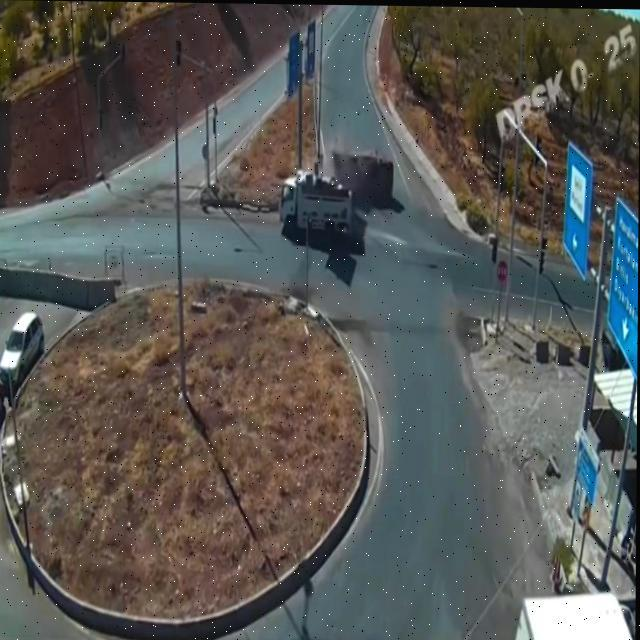multiple_accident: (257, 119, 433, 262)
